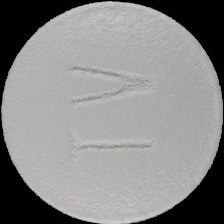0093-5060: (0, 0, 224, 224)
